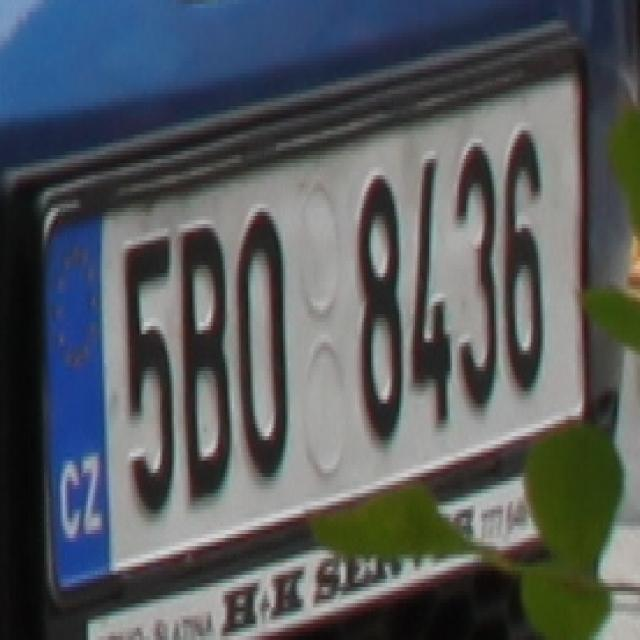0: (232, 204, 292, 481)
3: (459, 134, 499, 412)
4: (406, 151, 454, 420)
5: (121, 228, 176, 514)
6: (501, 126, 547, 392)
8: (357, 171, 406, 436)
B: (176, 220, 230, 493)
